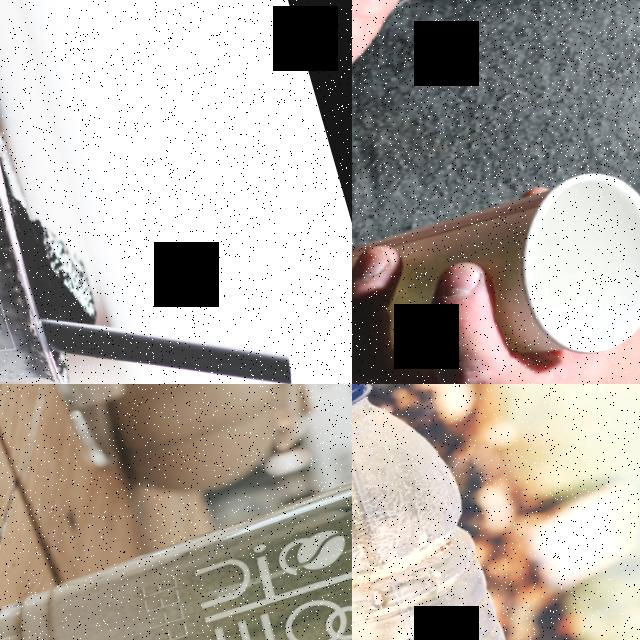cup: (0, 419, 352, 640), (352, 155, 640, 384), (0, 122, 81, 384)
